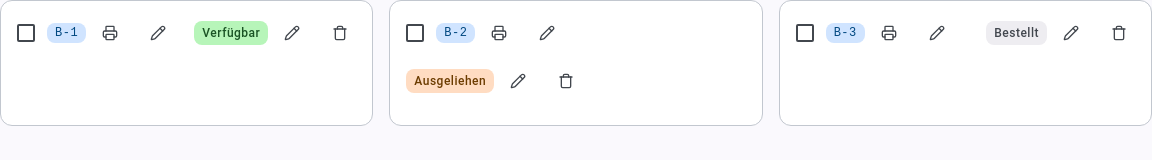
Buchakte: Exemplar löschen führt den Bestand im Kopf nach › zieht ein verfügbares Exemplar des Bestands von beiden Zahlen ab
Click the button named "Exemplar löschen" next to "Verfügbar": x=340, y=33 [324,17,356,49]
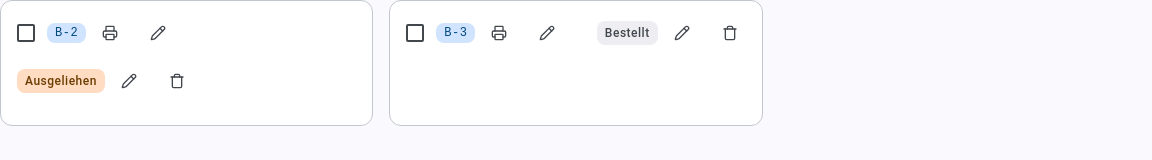
Expected: the number of buttons named "Exemplar löschen" is 2, [161,65,193,97]; [714,17,746,49]
